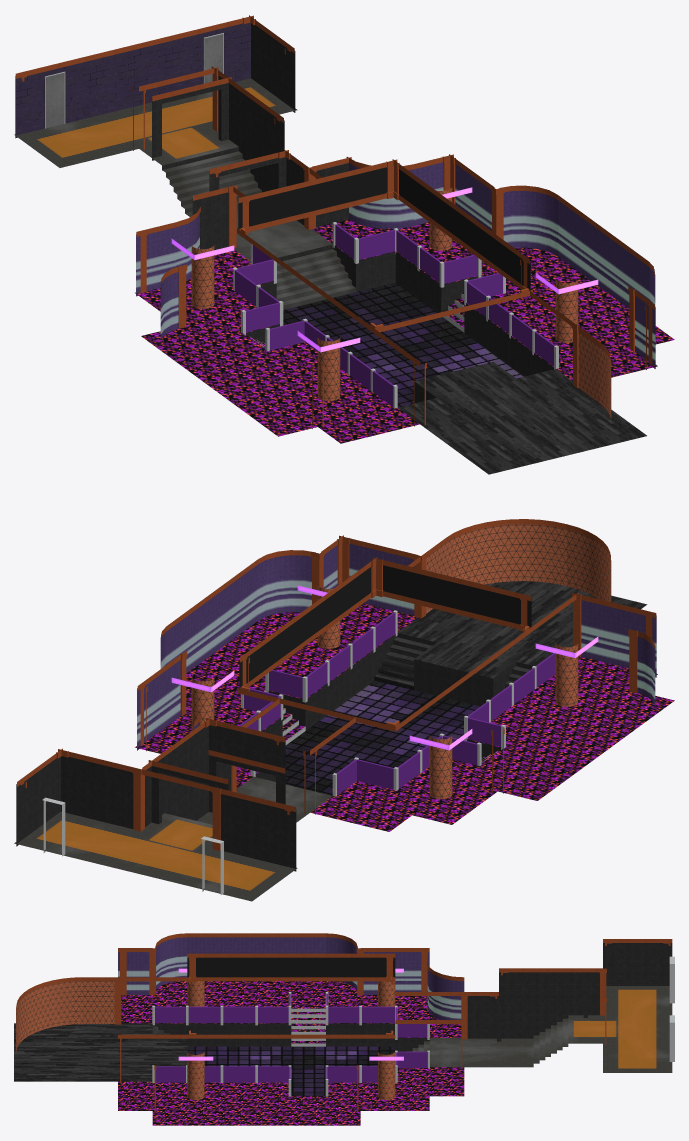
The model's file is club2.glb.
The picture shows the model from 3 angles, top to bottom: view 1: azimuth 30°, elevation 25°; view 2: azimuth 150°, elevation 25°; view 3: azimuth 270°, elevation 25°; orthographic projection. The views are drawn at different scales.
Parts seen in each view (by area): view 1: MeshSet2_lambert2_0_0; view 2: MeshSet2_lambert2_0_0; view 3: MeshSet2_lambert2_0_0.
Boxes of the visible parts, left/top/right/bottom form: MeshSet2_lambert2_0_0: left=14, top=15, right=674, bottom=474; MeshSet2_lambert2_0_0: left=14, top=519, right=674, bottom=901; MeshSet2_lambert2_0_0: left=14, top=933, right=674, bottom=1125.
Size of the model in its own units: 20 by 6.27 by 38.15.
Materials: 2 (2 with a texture image).
